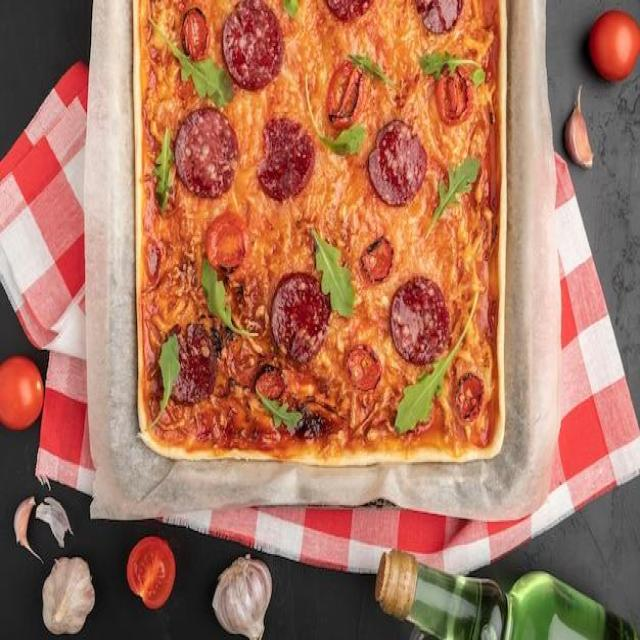basil: (391, 284, 483, 434), (152, 21, 238, 111), (423, 152, 495, 243), (200, 264, 262, 344), (307, 225, 357, 323), (314, 227, 358, 326), (146, 328, 182, 431), (142, 332, 178, 432), (255, 384, 308, 440), (416, 50, 490, 86), (148, 125, 175, 217), (315, 120, 372, 159), (339, 50, 392, 84), (283, 0, 302, 15)
pepperoni: (219, 0, 284, 92), (174, 112, 239, 198), (368, 119, 428, 208), (389, 278, 449, 359), (163, 320, 217, 408), (258, 120, 316, 200), (271, 277, 324, 360), (417, 0, 462, 35), (324, 0, 370, 22)
pizza: (135, 0, 503, 457)
